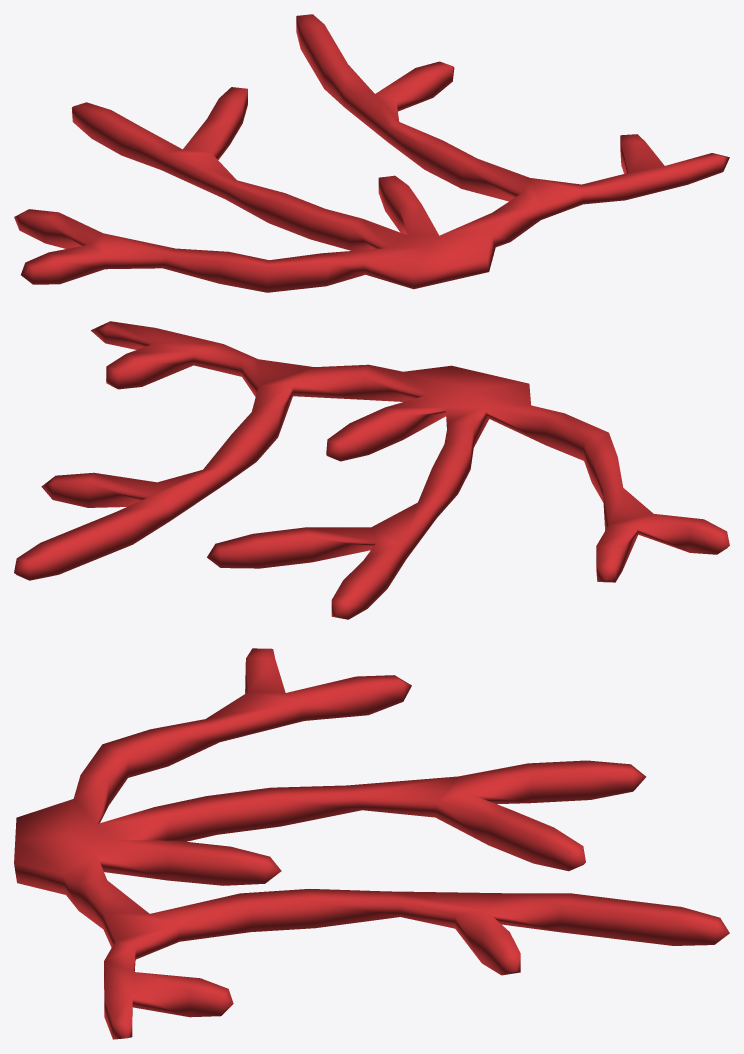
Rendered from coral02a.fbx.
3 renders of one model, top to bottom at view 1: azimuth 30°, elevation 25°; view 2: azimuth 150°, elevation 25°; view 3: azimuth 270°, elevation 25°, orthographic. The views are drawn at different scales.
Visible parts, largest first — view 1: Coral02a; view 2: Coral02a; view 3: Coral02a.
Part boxes in pixels (left/top/right/bottom): Coral02a: left=14, top=14, right=729, bottom=292; Coral02a: left=14, top=321, right=729, bottom=619; Coral02a: left=14, top=648, right=729, bottom=1039.
Bounding box in the file's own units: 296 × 10.85 × 233.
